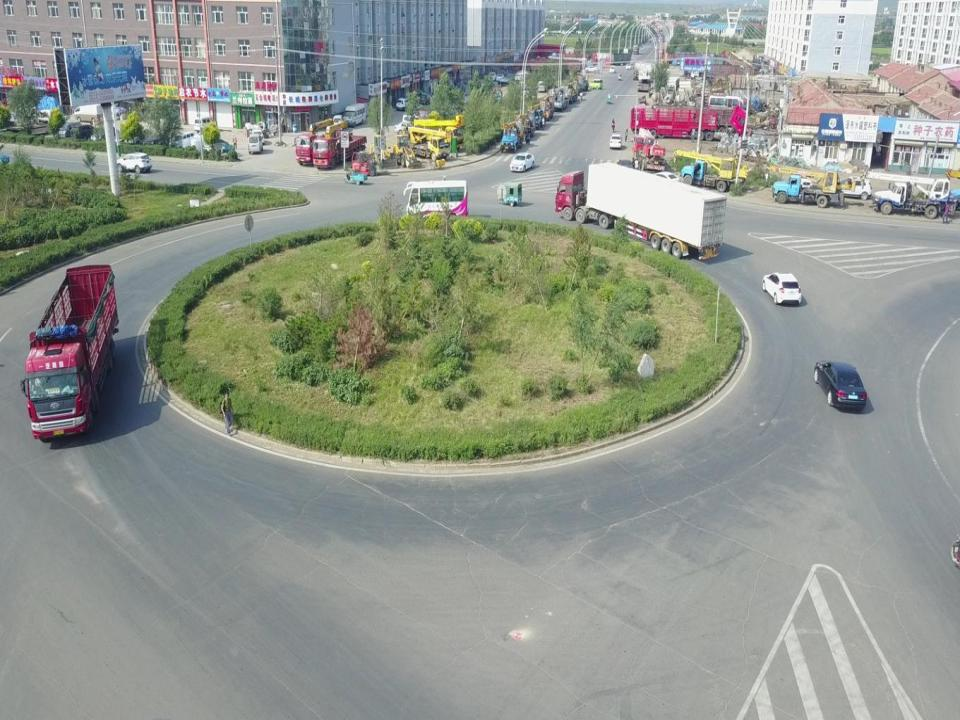bus: (402, 181, 468, 219), (708, 95, 743, 115)
car: (812, 358, 867, 412), (762, 271, 802, 305), (831, 176, 872, 200), (644, 169, 680, 194), (117, 153, 151, 173), (70, 124, 100, 143), (124, 129, 152, 148), (510, 152, 535, 172), (112, 129, 145, 144), (142, 132, 172, 148), (91, 127, 120, 142), (394, 122, 421, 138), (202, 138, 230, 152), (250, 129, 264, 145), (396, 98, 412, 111), (609, 134, 623, 148), (419, 94, 432, 106), (498, 78, 514, 87), (585, 65, 597, 72), (518, 81, 528, 89), (514, 73, 522, 81), (489, 72, 496, 81), (496, 74, 504, 81), (506, 73, 513, 81), (610, 66, 615, 71), (627, 63, 631, 68)
truck: (20, 266, 120, 439), (555, 162, 726, 260), (632, 106, 749, 140), (873, 181, 957, 222), (772, 172, 844, 210), (295, 123, 354, 166), (680, 153, 744, 191), (313, 132, 367, 168), (2, 108, 59, 140), (413, 126, 464, 150), (632, 136, 665, 173), (404, 134, 451, 158), (500, 123, 527, 151), (530, 110, 546, 128), (520, 118, 534, 138), (540, 100, 555, 117), (554, 93, 568, 109), (565, 88, 578, 103)
van: (74, 104, 104, 124), (169, 132, 195, 152), (59, 121, 81, 142), (344, 104, 365, 125), (195, 115, 217, 134), (247, 134, 262, 154), (402, 114, 422, 129), (333, 115, 343, 129), (588, 79, 602, 89), (534, 82, 545, 91)
